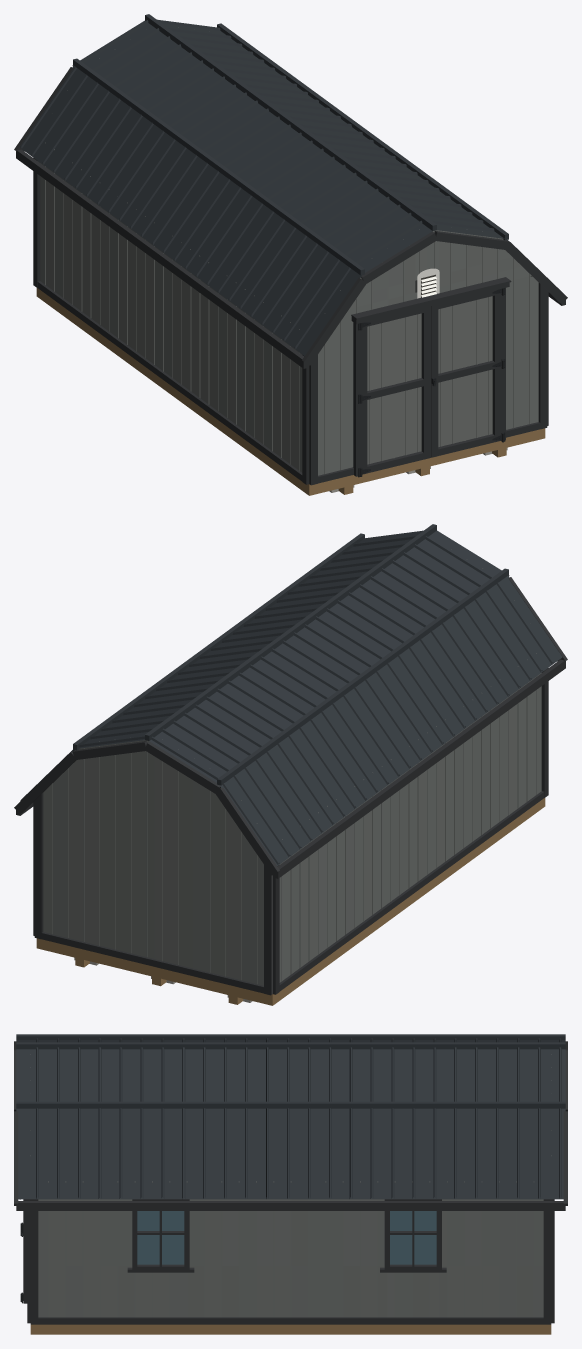
The model's file is 05-classic-lofted-barn.glb.
3 renders of one model, top to bottom at view 1: azimuth 30°, elevation 25°; view 2: azimuth 150°, elevation 25°; view 3: azimuth 270°, elevation 25°, orthographic. The views are drawn at different scales.
Parts seen in each view (by area): view 1: Main roof, left wall, front wall double, front wall, Floor platform and skids, front wall vent; view 2: Main roof, rear wall, left wall, Floor platform and skids; view 3: Main roof, right wall, right wall window, Floor platform and skids, front wall double, front wall, rear wall.
Part boxes in pixels (box(x1,y1,x2,y2)): Main roof: box(14, 14, 567, 368); left wall: box(33, 142, 309, 484); front wall double: box(351, 277, 511, 477); front wall: box(309, 229, 547, 485); Floor platform and skids: box(36, 288, 545, 495); front wall vent: box(417, 268, 439, 298); Main roof: box(14, 524, 567, 878); rear wall: box(34, 739, 272, 995); left wall: box(272, 653, 548, 994); Floor platform and skids: box(36, 798, 545, 1005); Main roof: box(14, 1034, 567, 1210); right wall: box(30, 1181, 551, 1324); right wall window: box(127, 1199, 446, 1272); Floor platform and skids: box(30, 1324, 551, 1334); front wall double: box(20, 1199, 27, 1303); front wall: box(27, 1054, 30, 1323); rear wall: box(551, 1054, 554, 1323).
Size of the model in its own units: 3.4 by 3.18 by 6.49.
